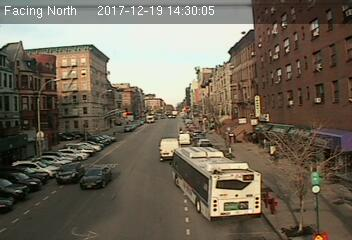bus: (172, 148, 262, 222)
car: (78, 166, 111, 189), (54, 161, 83, 182)
truck: (159, 138, 181, 160), (178, 129, 191, 145)
